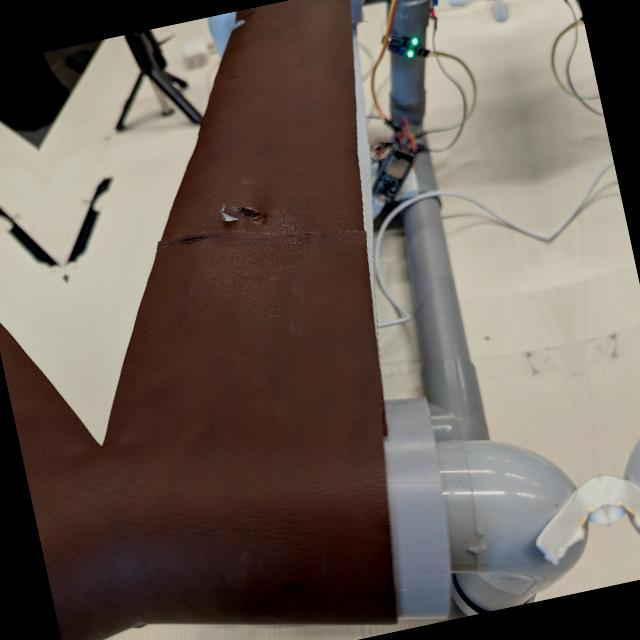joint_damage: (200, 190, 281, 249)
